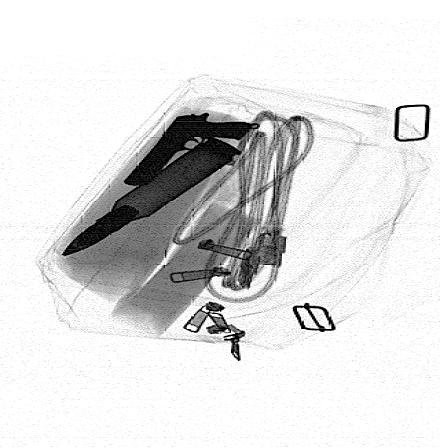Bullet: (61, 138, 240, 255)
Gun: (123, 114, 252, 188)
